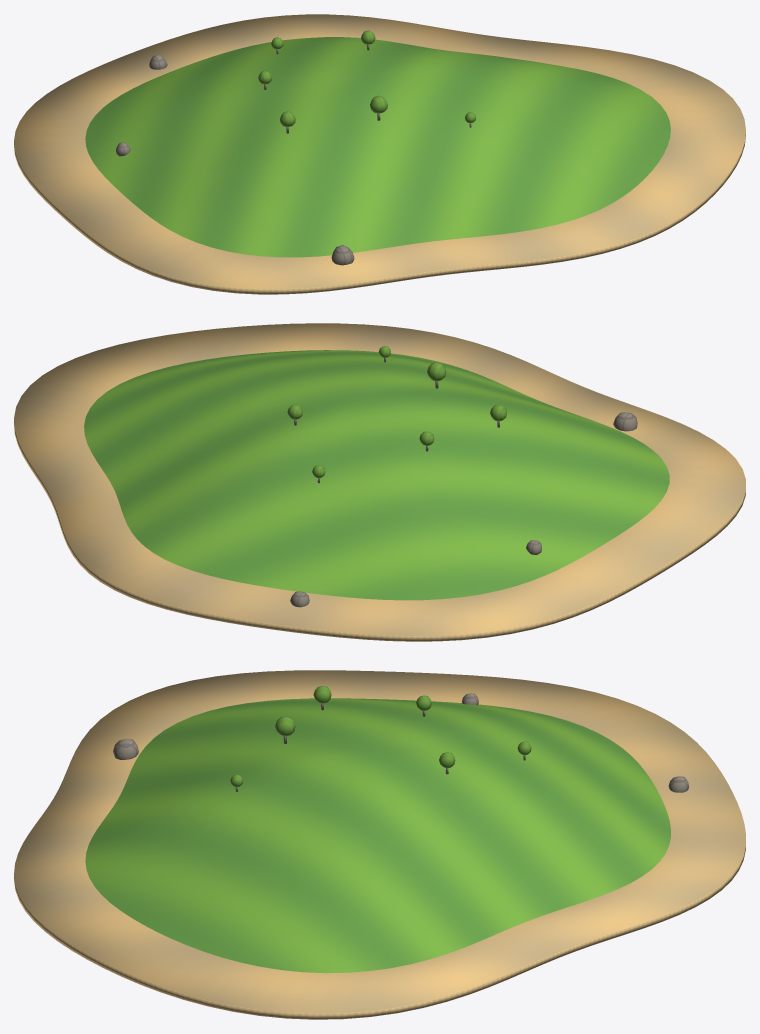
File: ISL-L_LOD0.fbx
3 renders of one model, top to bottom at view 1: azimuth 30°, elevation 25°; view 2: azimuth 150°, elevation 25°; view 3: azimuth 270°, elevation 25°, orthographic. The views are drawn at different scales.
Visible parts, largest first — view 1: ISL-L_LOD0_Assembled; view 2: ISL-L_LOD0_Assembled; view 3: ISL-L_LOD0_Assembled.
Part boxes in pixels (x1,y1,x2,y2): ISL-L_LOD0_Assembled: (14, 14, 745, 294); ISL-L_LOD0_Assembled: (14, 323, 745, 641); ISL-L_LOD0_Assembled: (14, 670, 745, 1019).
Size of the model in its own units: 188 by 170 by 27.26.
Materials: 3 (3 with a texture image).
